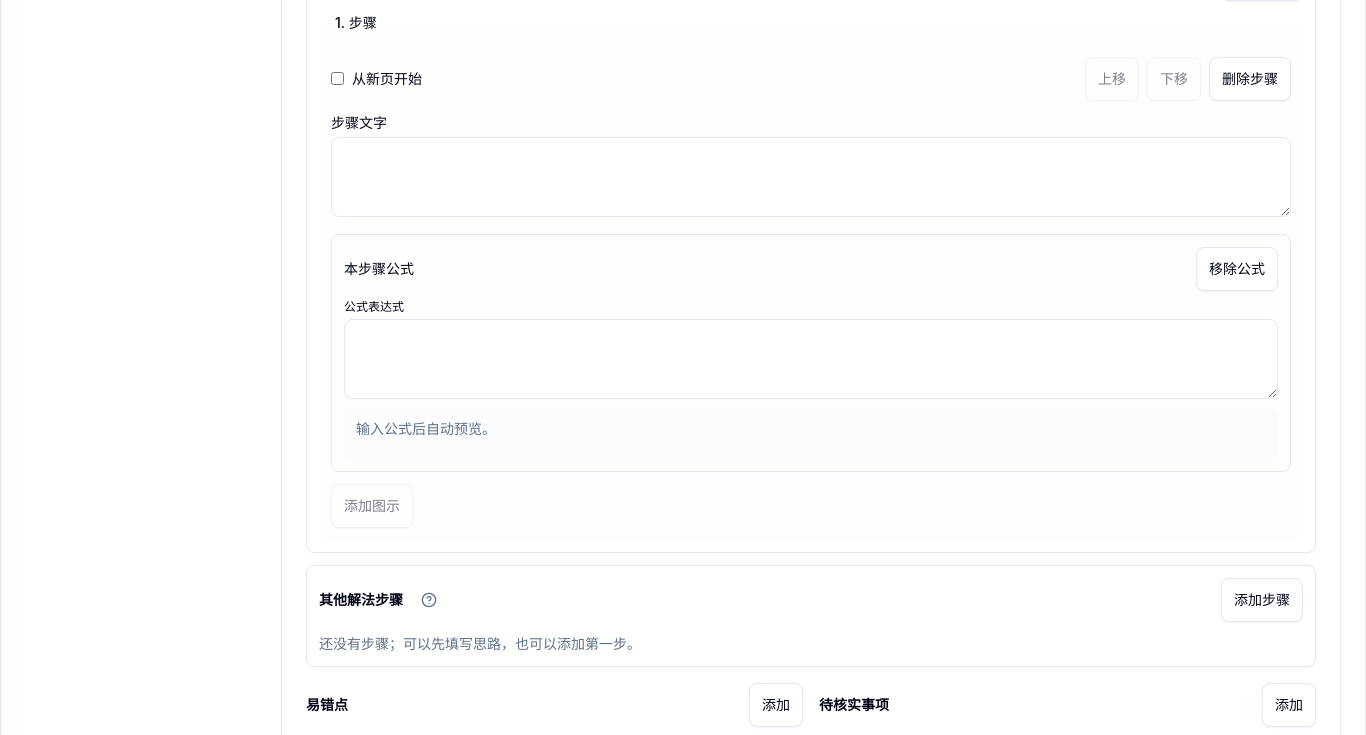
SolutionEditor formula preview › previews supported expression structure and keeps invalid source text intact
(page scrolled)
Type "4*2+1/2-1/2" into the text box named "第 1 步公式表达式".
click(811, 358); type("4*2+1/2-1/2")  # box [344,318,1278,398]
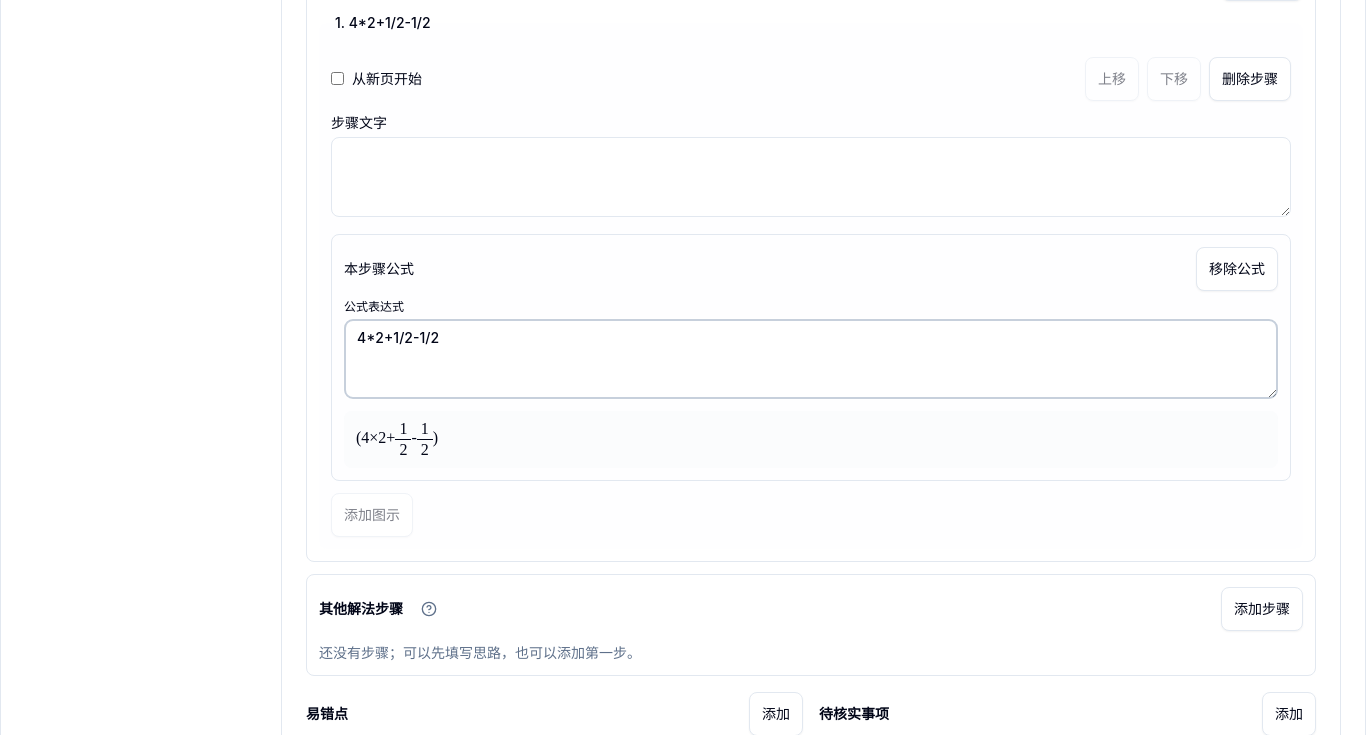
Expected: the number of elements with class "inline-grid" is 2, [395,418,411,460]; [417,418,433,460]
Replace the text in the text box named "第 1 步公式表达式" with "1+" at (811, 358), box [344,318,1278,398]
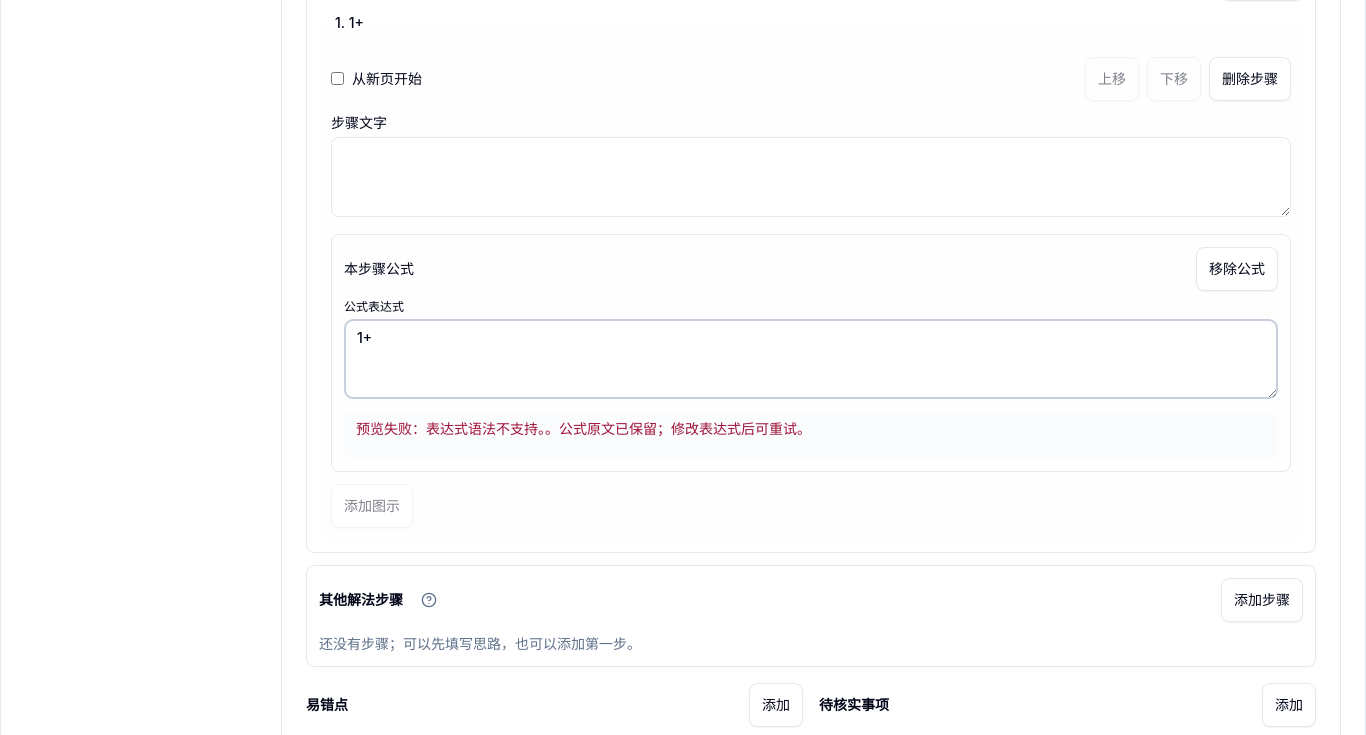
Expected: the text "预览失败：表达式语法不支持。。公式原文已保留；修改表达式后可重试。" is shown, [356,420,811,436]
